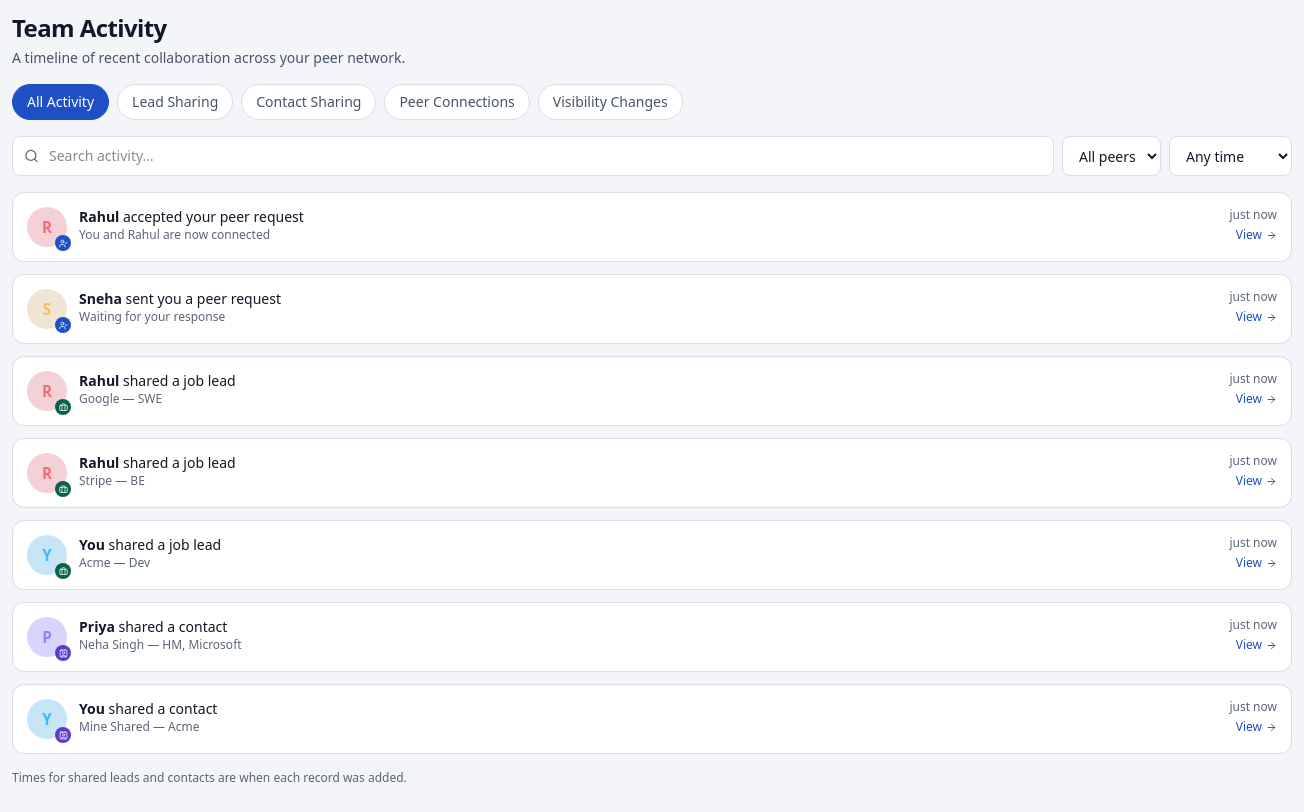
Test case: TeamActivity › shows a timeline and filters by type
The image size is (1304, 812).
Expected: the 1st text "Rahul shared a job lead" is shown, [79,371,236,390]
Click the tab "Contact Sharing": (309, 102) [241,84,376,120]
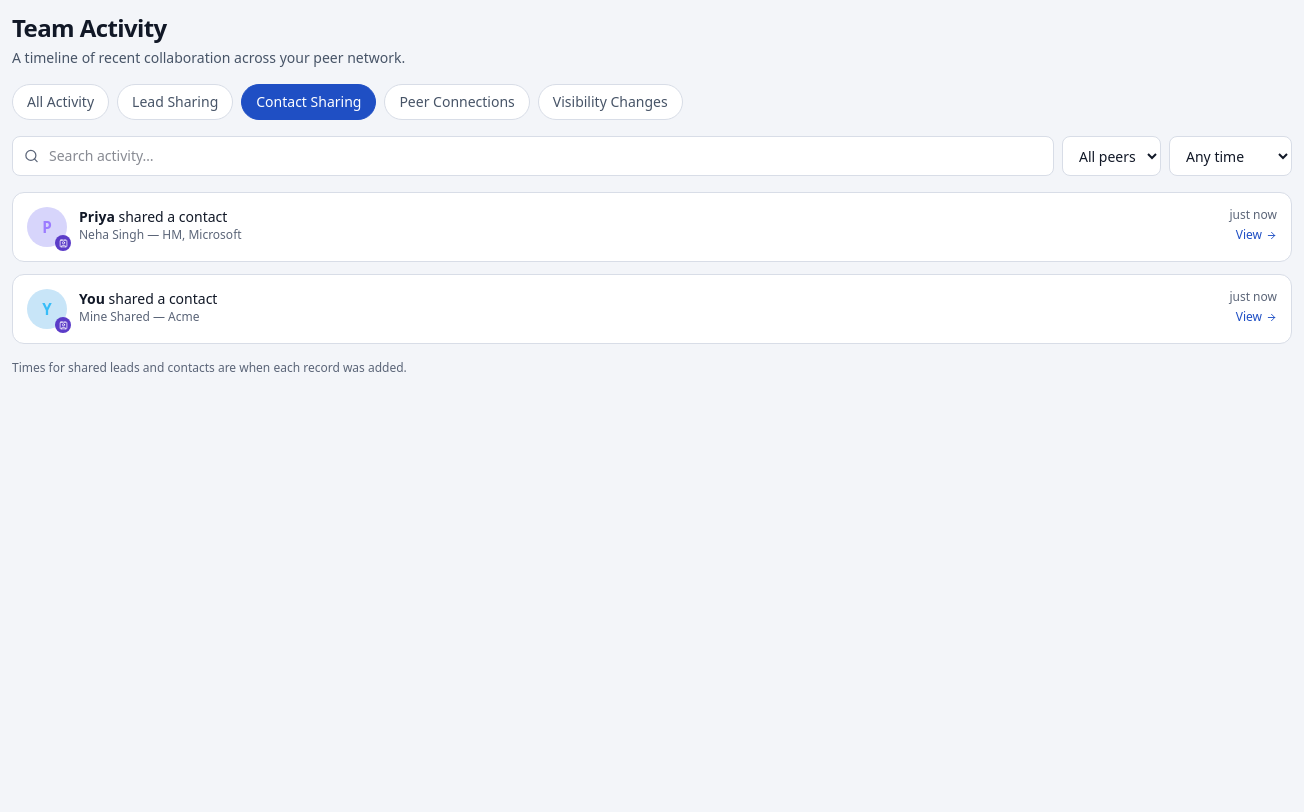
Expected: the text "Neha Singh — HM, Microsoft" is shown, [79,226,242,243]
Expected: the text "Google — SWE" is gone
Click the tab "Visibility Changes": (610, 102) [538,84,683,120]
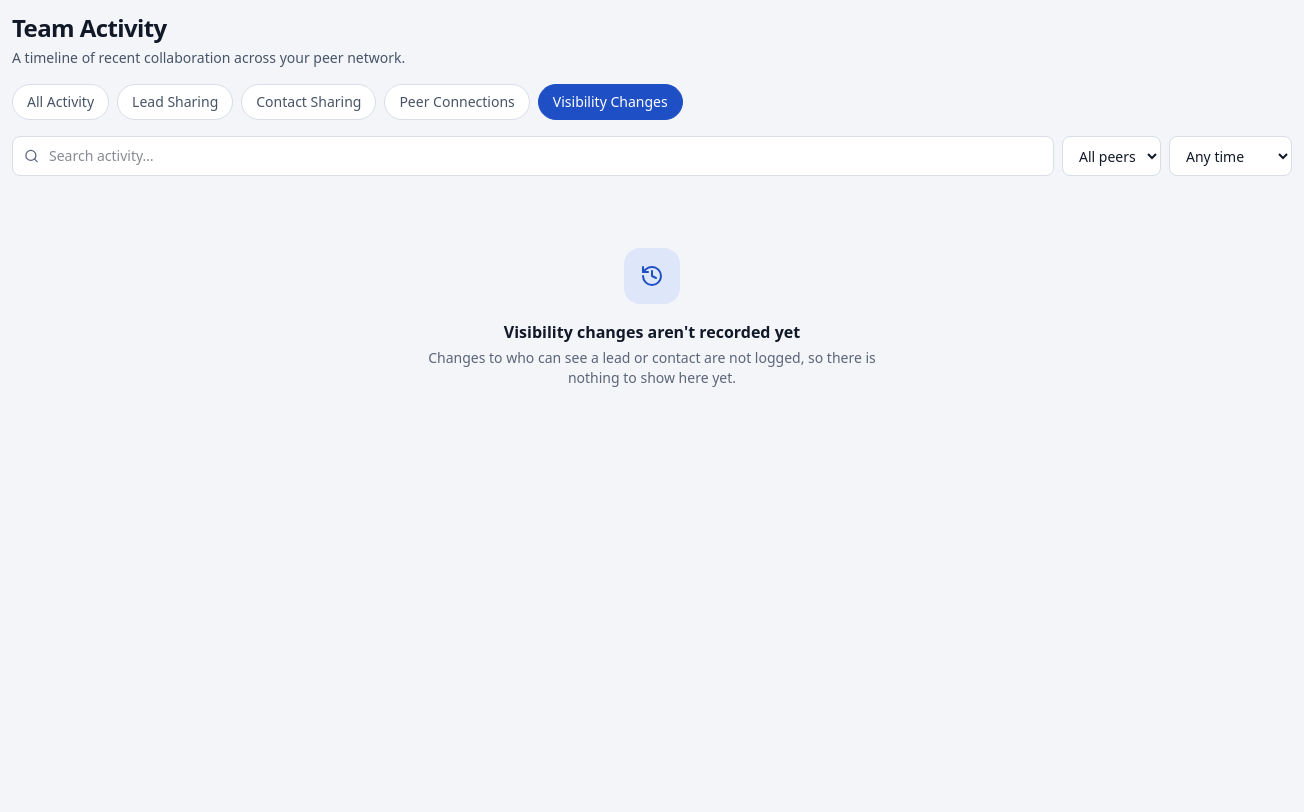
Expected: the text "Visibility changes aren't recorded yet" is shown, [504,321,800,343]
